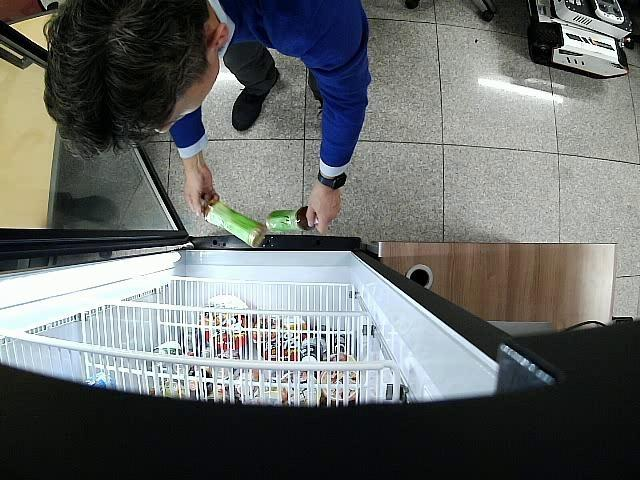19_17cha: (200, 192, 268, 248), (266, 206, 318, 232)
